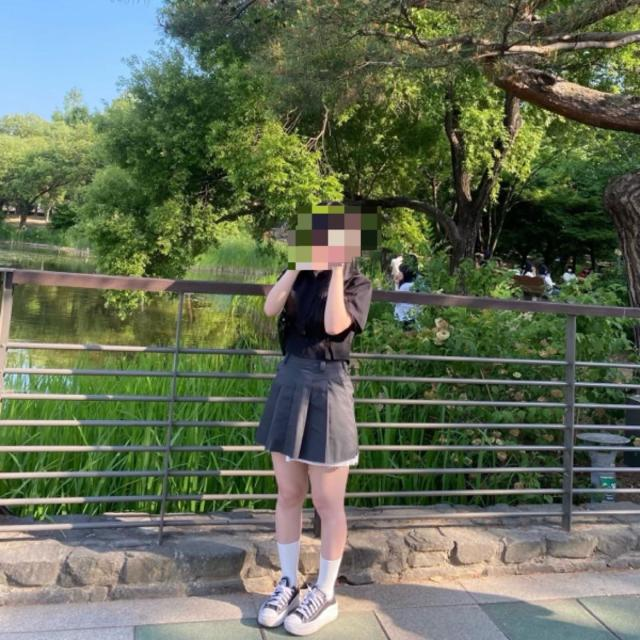shortsleeve: (276, 261, 368, 362)
skirt: (252, 355, 364, 464)
